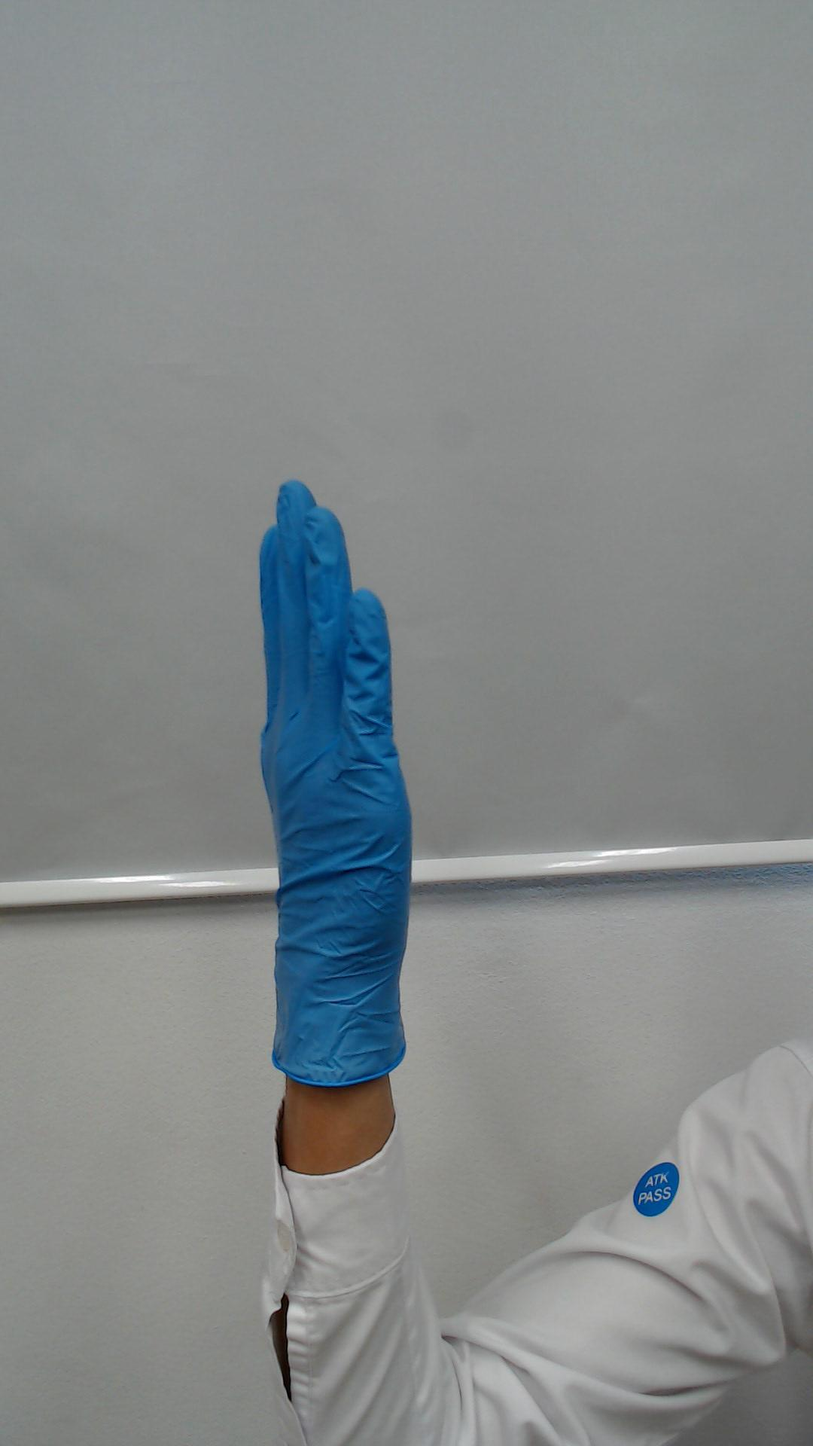gloves: (224, 450, 470, 947)
